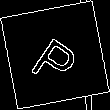P_NE: (25, 24, 85, 86)
